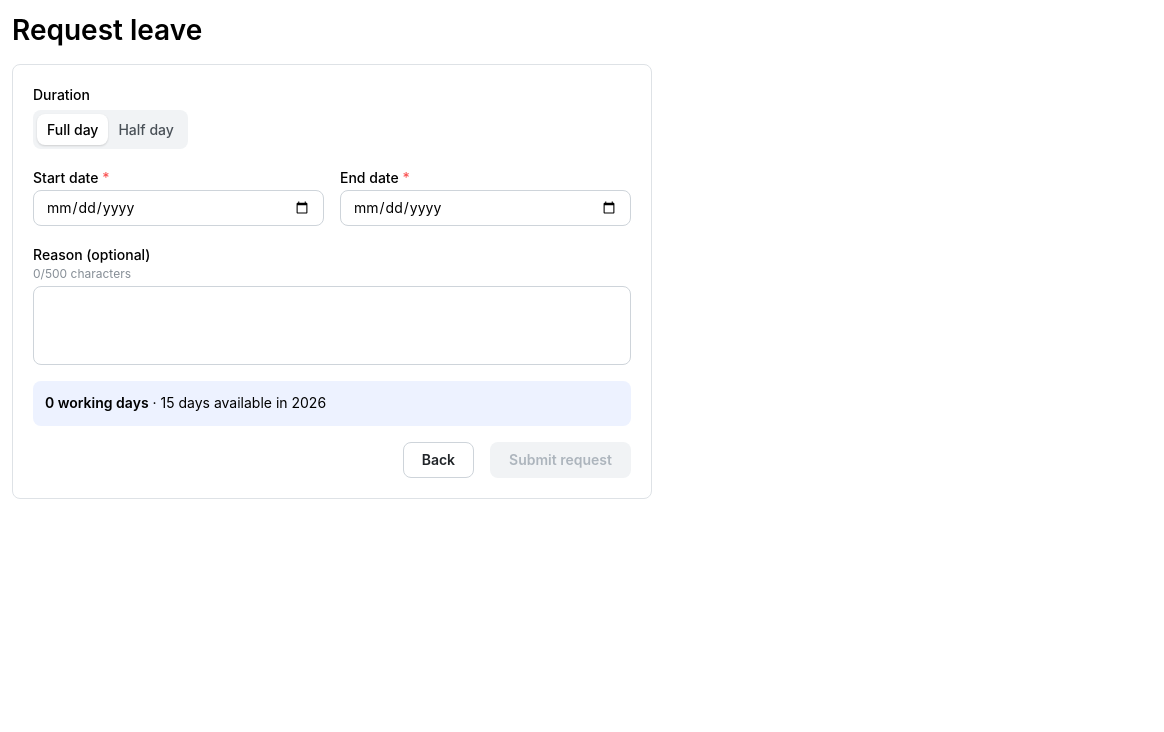
Scenario: NewRequest › submits a half-day request with the chosen half
Step 1. Click the radio button labelled "Half day" → (146, 129), box [118,121,174,138]
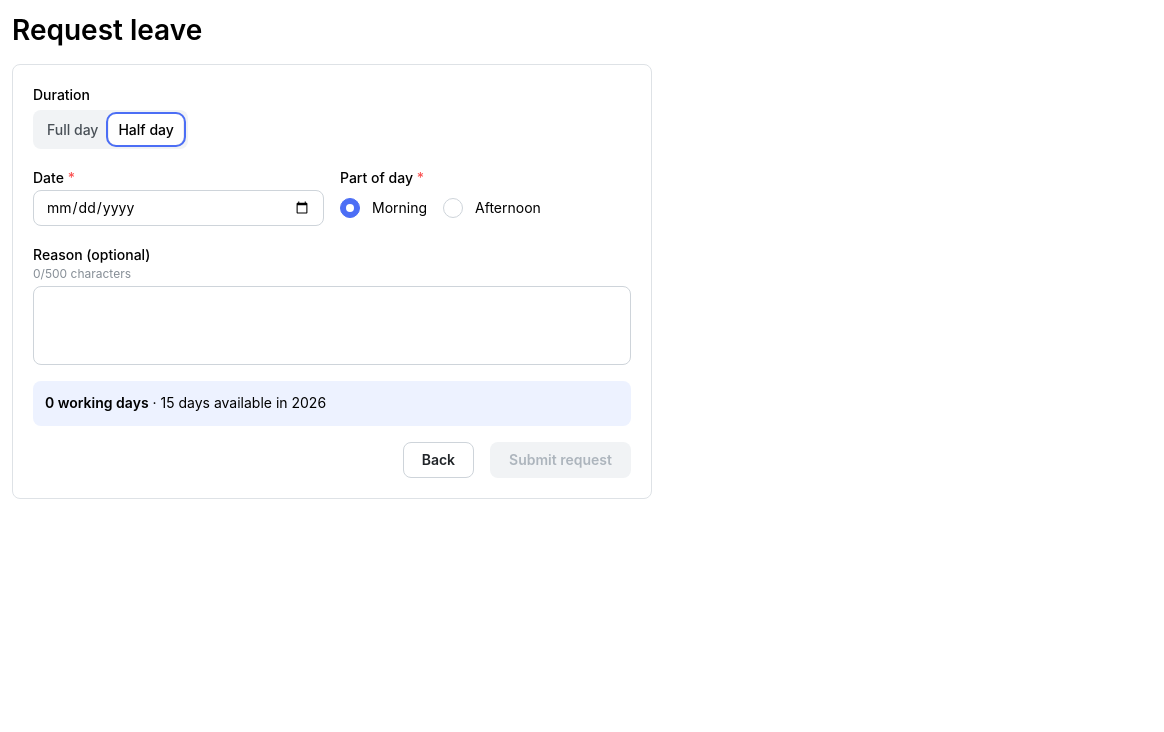
Step 2. Type "2026-11-03" into the date field labelled "Date *" → (178, 208), box [33,190,324,226]
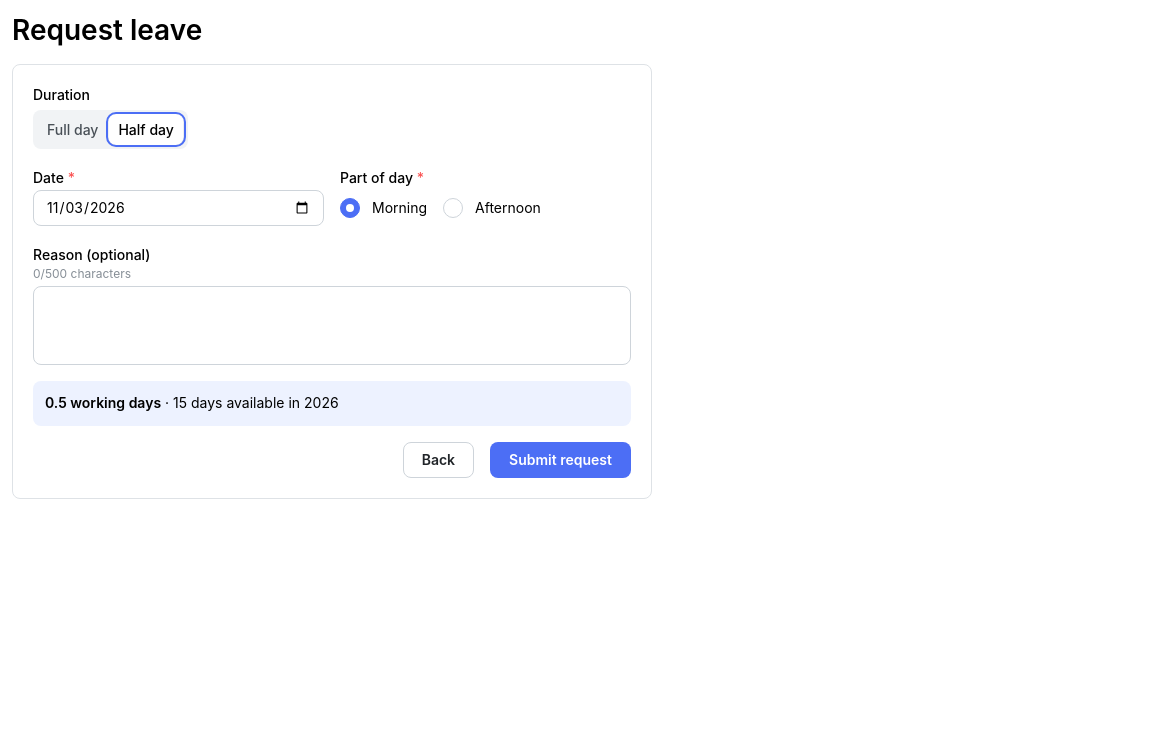
Step 3. Click the radio button labelled "Afternoon" → (453, 208), box [443,198,463,218]
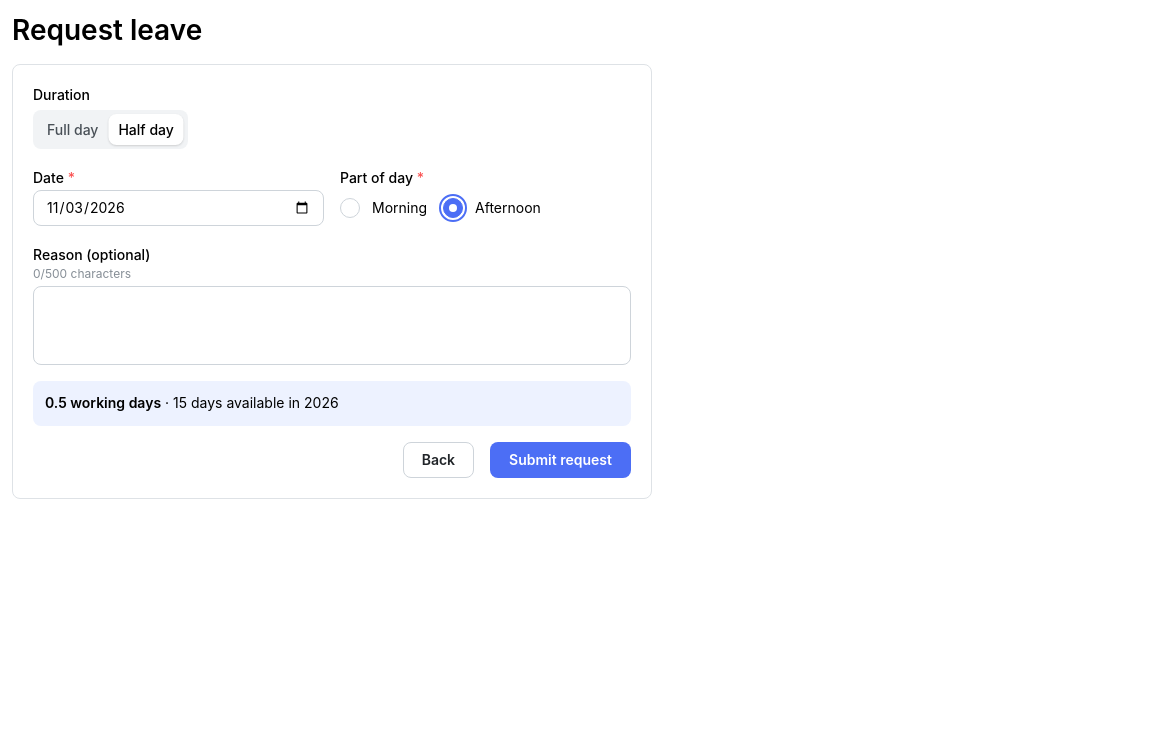
Step 4. Click the button "Submit request" → (561, 460), box [490,442,631,478]
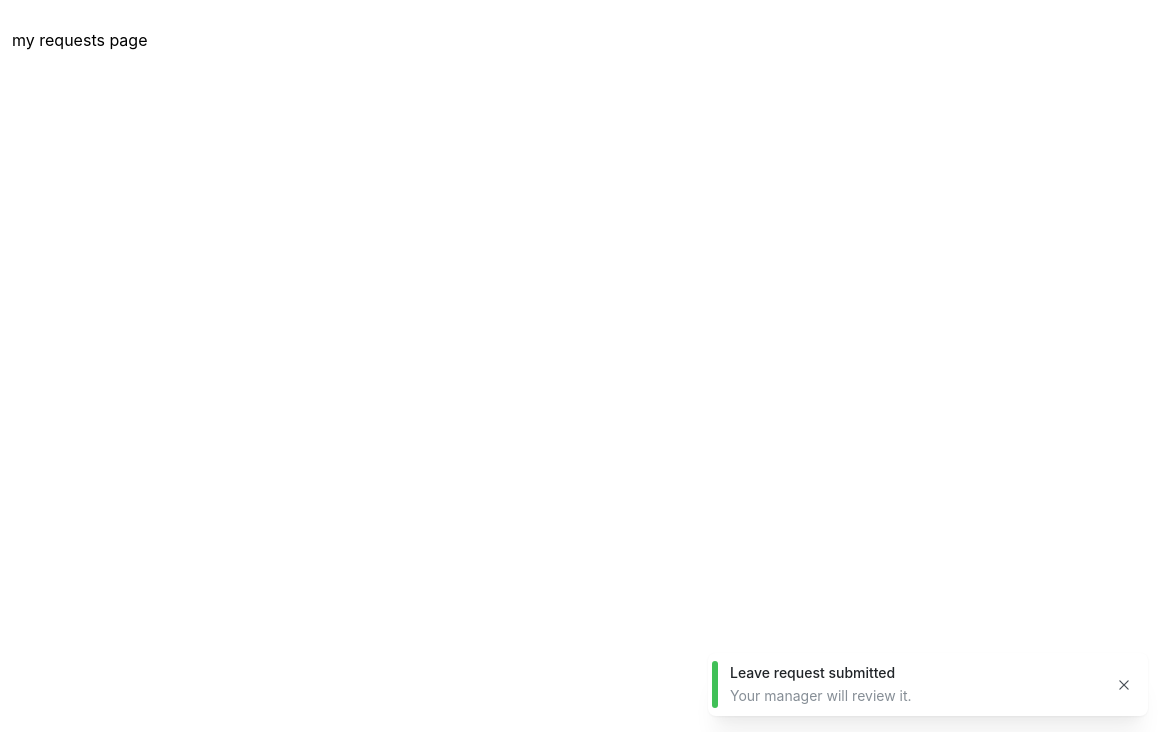
expect the text "my requests page" is shown: met, box [12,30,148,50]
